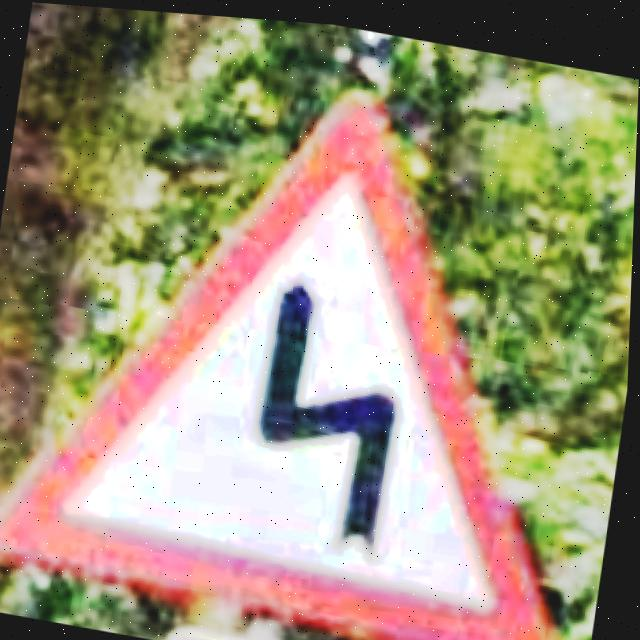doublebendleft: (0, 92, 562, 640)
